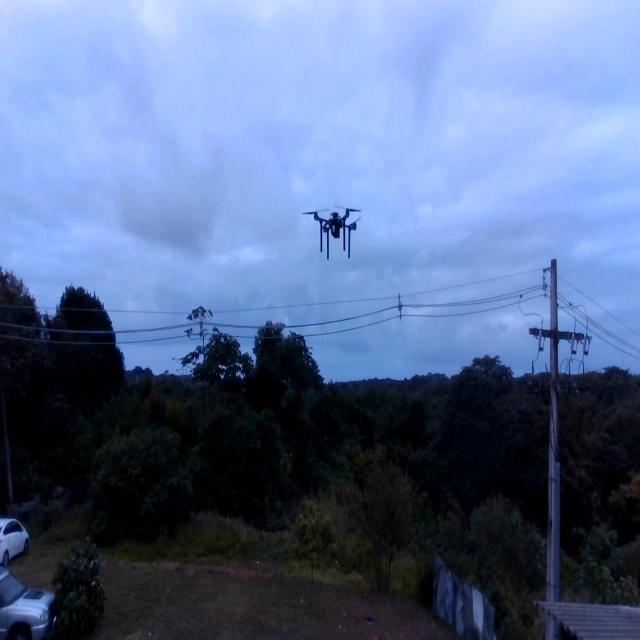-uav-: (295, 188, 367, 262)
